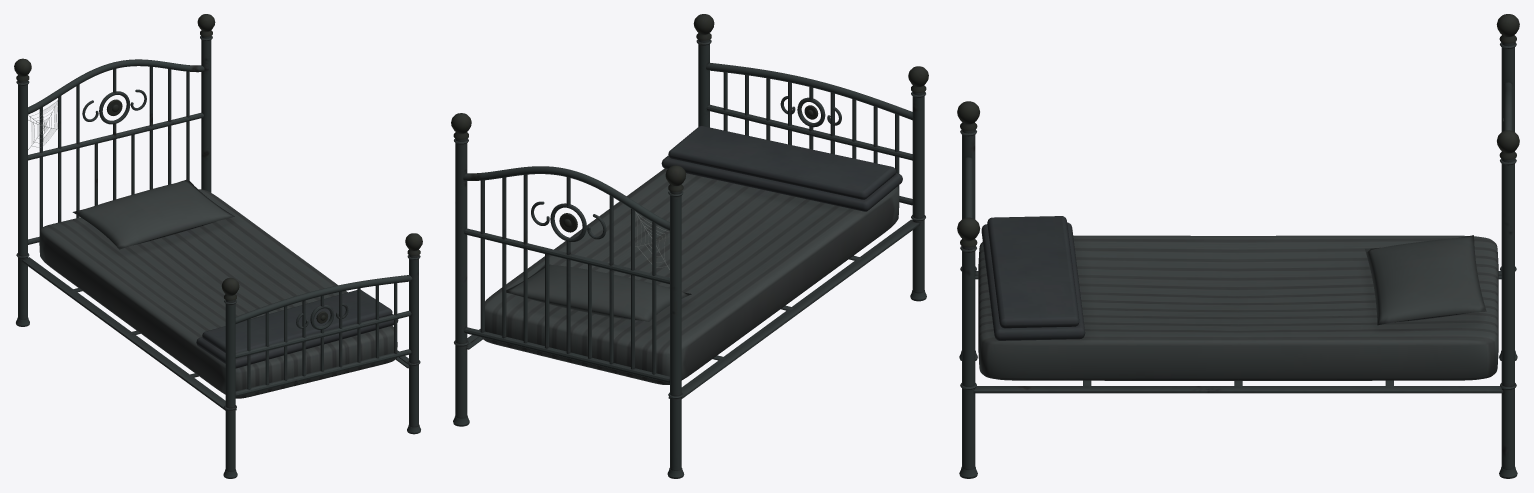
File: old-iron-bed.glb
3 views of the same model, side by side, from view 1: azimuth 30°, elevation 25°; view 2: azimuth 150°, elevation 25°; view 3: azimuth 270°, elevation 25° (orthographic). The views are drawn at different scales.
Visible parts, largest first — view 1: old-iron-bed_body, old-iron-bed_web; view 2: old-iron-bed_body, old-iron-bed_web; view 3: old-iron-bed_body.
Boxes of the visible parts, x1,y1,x2,y2 form: old-iron-bed_body: (14,14,422,478); old-iron-bed_web: (28,98,58,149); old-iron-bed_body: (451,14,928,478); old-iron-bed_web: (635,211,669,269); old-iron-bed_body: (957,14,1519,478).
Bounding box in the file's own units: 1.08 × 1.38 × 2.04.
Materials: 3 (1 with a texture image).
